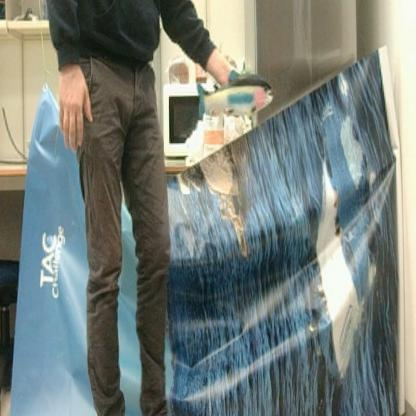rubberfish: (196, 68, 278, 123)
